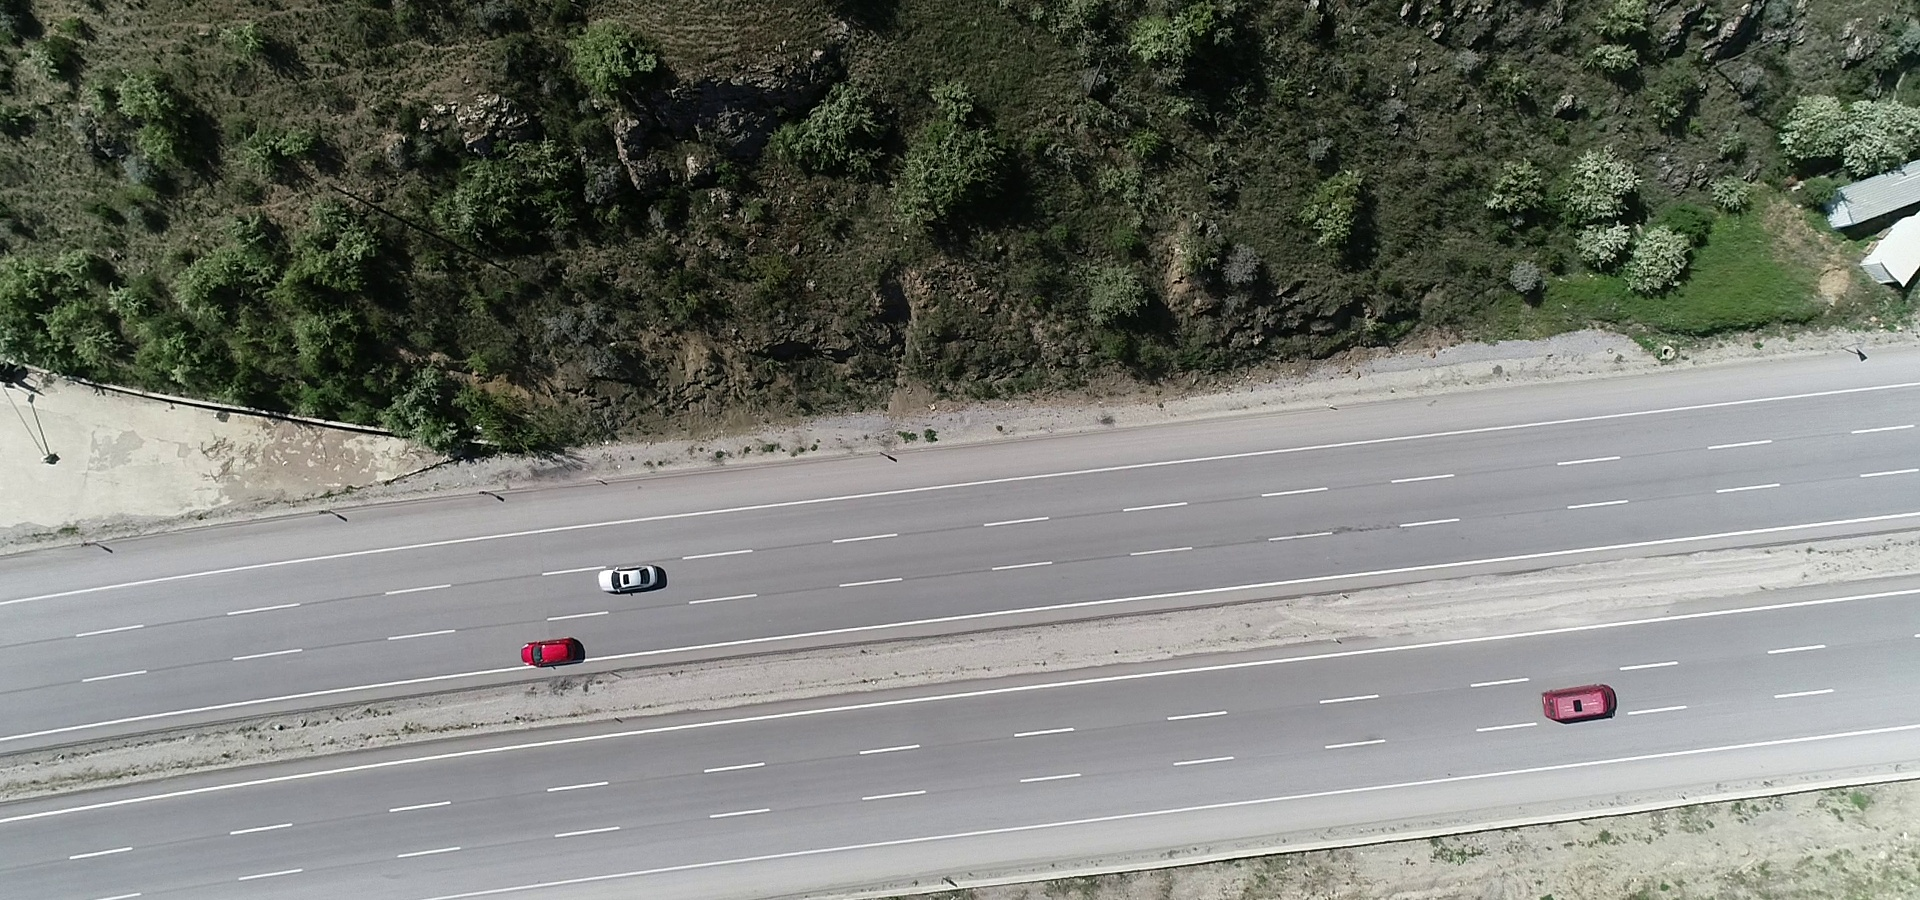arac: (591, 551, 666, 599), (1539, 681, 1622, 719), (520, 629, 594, 670)
